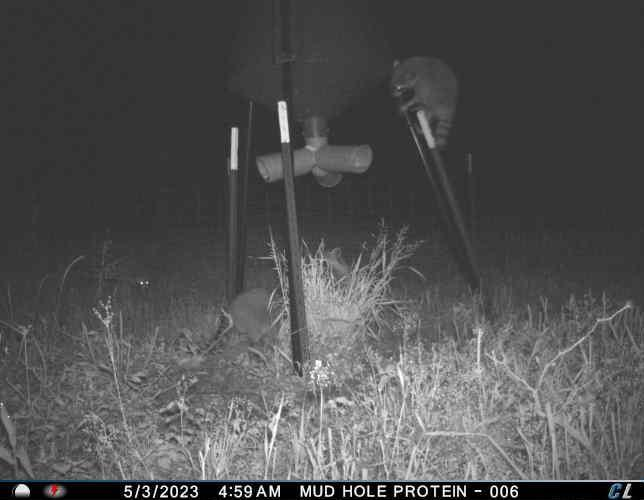Raccoon: (390, 54, 460, 152), (210, 283, 297, 361)
